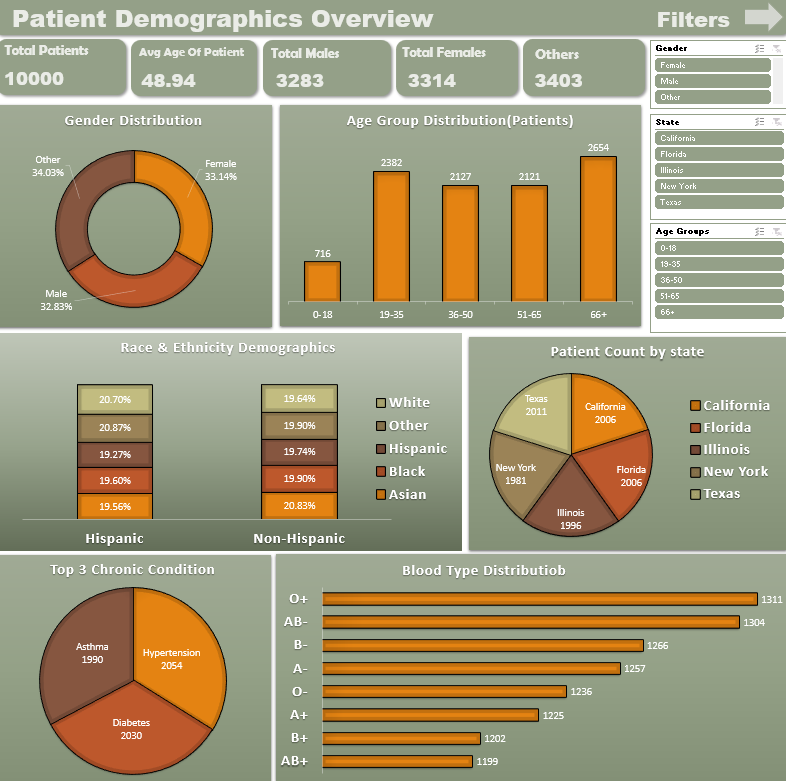

Layout of this report page (visuals, bound fields, positions):
{"tool":"powerbi","page":{"name":"Patient Demographic overview","canvas":[1280,720],"ordinal":0},"visuals":[{"type":"shape","box":[0,0,1279.7,52.7],"z":0},{"type":"cardVisual","fields":{"Data":["Patient.Total Patients","Patient.Avg age of patient","Patient.Total Males","Patient.Total Females","Patient.Others"]},"box":[0,51.4,1279.7,93.2],"z":1000},{"type":"clusteredColumnChart","title":"Age Group Distribution(Patients)","fields":{"Category":["Patient.Age Groups"],"Y":["Patient.Total Patients"]},"box":[218.3,143.7,347.9,247.9],"z":2000},{"type":"pieChart","fields":{"Category":["Patient.State"],"Y":["Patient.Total Patients"]},"box":[566.2,143.7,359.2,247.9],"z":3000},{"type":"clusteredColumnChart","title":"Top 3 Chronic Condition ","fields":{"Y":["Patient.Total Patients"],"Category":["Patient.Chronic Conditions"]},"box":[925.4,143.7,354.9,246.5],"z":4000},{"type":"columnChart","fields":{"Category":["Patient.Ethnicity"],"Series":["Patient.Race"],"Y":["Patient.Total Patients"]},"box":[676.1,390.1,604.2,329.6],"z":5000},{"type":"clusteredBarChart","fields":{"Category":["Patient.Blood Type"],"Y":["Patient.Total Patients"]},"box":[0,390.1,676.1,329.6],"z":6000},{"type":"slicer","fields":{"Values":["Patient.Gender"]},"box":[0,143.7,218.3,76.1],"z":7000},{"type":"slicer","fields":{"Values":["Patient.State"]},"box":[0,219.7,218.3,81.7],"z":8000},{"type":"slicer","fields":{"Values":["Patient.Age Groups"]},"box":[0,301.4,218.3,88.7],"z":9000},{"type":"actionButton","box":[1220.3,0,59.7,51],"z":10000}]}

Visuals, with their boxes on the page's 1280x720 design canvas (x1, y1, x2, y2). These are canvas units, not pixel positions in the 786x781 screenshot, which may show the page scaled, cropped or inside an application window:
shape: crop(0, 0, 1280, 53)
cardVisual - Patient.Total Patients x Patient.Avg age of patient: crop(0, 51, 1280, 145)
"Age Group Distribution(Patients)" clusteredColumnChart: crop(218, 144, 566, 392)
pieChart - Patient.State x Patient.Total Patients: crop(566, 144, 925, 392)
"Top 3 Chronic Condition " clusteredColumnChart: crop(925, 144, 1280, 390)
columnChart - Patient.Ethnicity x Patient.Race: crop(676, 390, 1280, 720)
clusteredBarChart - Patient.Blood Type x Patient.Total Patients: crop(0, 390, 676, 720)
slicer - Patient.Gender: crop(0, 144, 218, 220)
slicer - Patient.State: crop(0, 220, 218, 301)
slicer - Patient.Age Groups: crop(0, 301, 218, 390)
actionButton: crop(1220, 0, 1280, 51)
